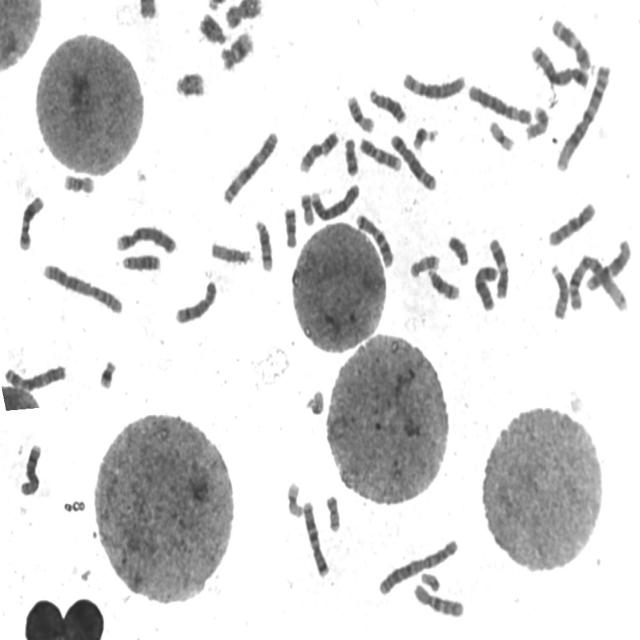A1: (554, 61, 612, 173), (568, 249, 630, 312)
A2: (376, 534, 460, 597), (40, 258, 124, 316)
A3: (220, 127, 280, 206), (1, 360, 68, 392)
B4: (308, 179, 362, 222), (114, 222, 178, 254)
B5: (388, 130, 438, 192), (528, 41, 590, 89)
C10: (546, 198, 598, 248), (411, 579, 466, 620)
C11: (550, 14, 593, 72), (486, 234, 511, 300)
C12: (584, 235, 633, 293), (16, 192, 46, 252)
C6: (466, 79, 534, 126), (399, 67, 467, 101)
C7: (353, 209, 395, 269), (300, 497, 331, 578)
C8: (172, 277, 219, 326), (18, 440, 43, 497)
C9: (296, 126, 341, 175), (356, 133, 404, 173)
D13: (366, 82, 408, 124), (120, 250, 163, 272)
D14: (425, 264, 461, 302), (252, 216, 275, 274)
D15: (548, 259, 570, 321), (208, 237, 255, 266)
E16: (345, 91, 376, 134), (61, 169, 96, 196)
E17: (523, 102, 550, 142), (407, 250, 442, 280)
E18: (281, 202, 299, 250), (342, 134, 360, 178)
F19: (487, 116, 516, 153), (284, 477, 305, 519)
F20: (323, 491, 342, 534), (298, 188, 316, 226)
G21: (410, 122, 439, 152), (96, 355, 118, 391)
G22: (303, 385, 326, 416), (418, 568, 442, 593)
X: (472, 261, 499, 312)
Y: (445, 231, 471, 267)
